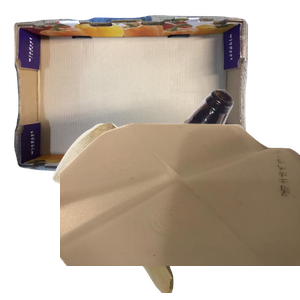cardboard: (11, 13, 251, 182)
glass: (130, 87, 300, 267)
plastic: (60, 120, 300, 300)
trash: (50, 120, 219, 300)
